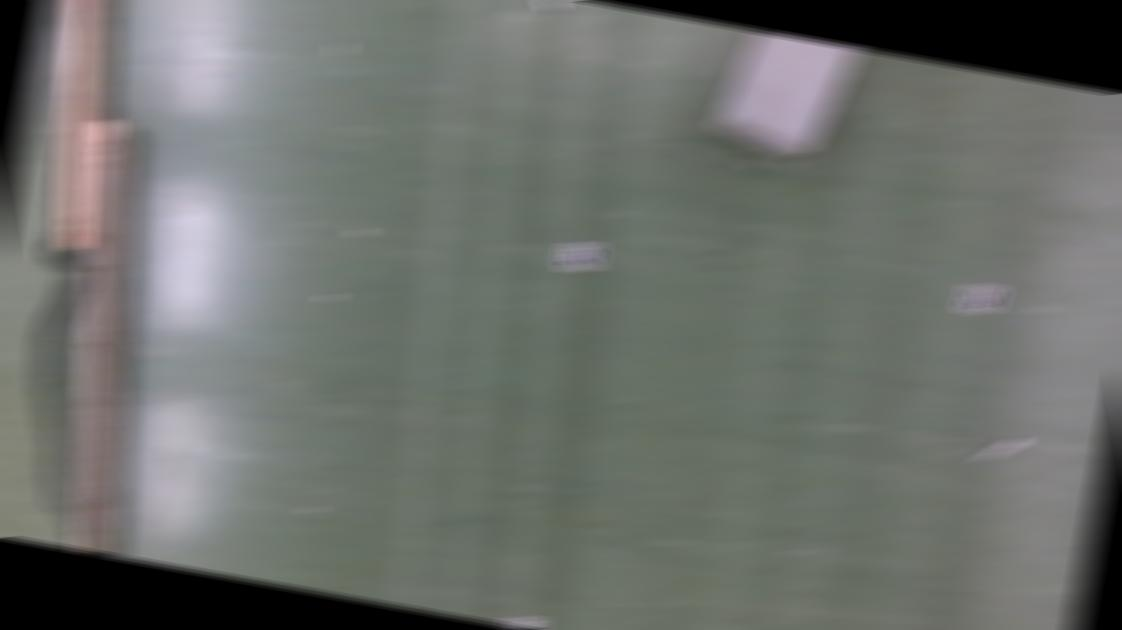probes: (978, 430, 1024, 464), (522, 0, 562, 10)
rako: (706, 25, 868, 165)
